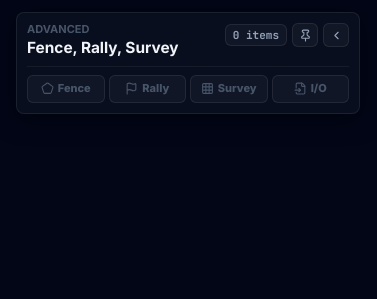
Test: AdvancedMissionPanel › opens the Rally tab without an edit form or New button
Click the tab "Rally". click: point(147, 89)
box: left=108, top=75, right=186, bottom=103
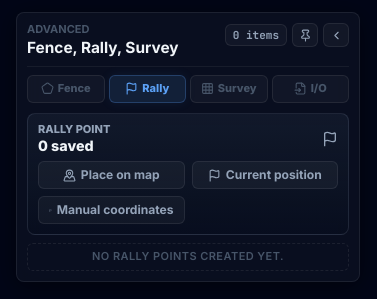
Now the text "Place on map" is shown, box left=81, top=169, right=160, bottom=181
Now the text "Current position" is shown, box left=226, top=169, right=322, bottom=181
Now the text "Manual coordinates" is shown, box left=57, top=204, right=174, bottom=216
